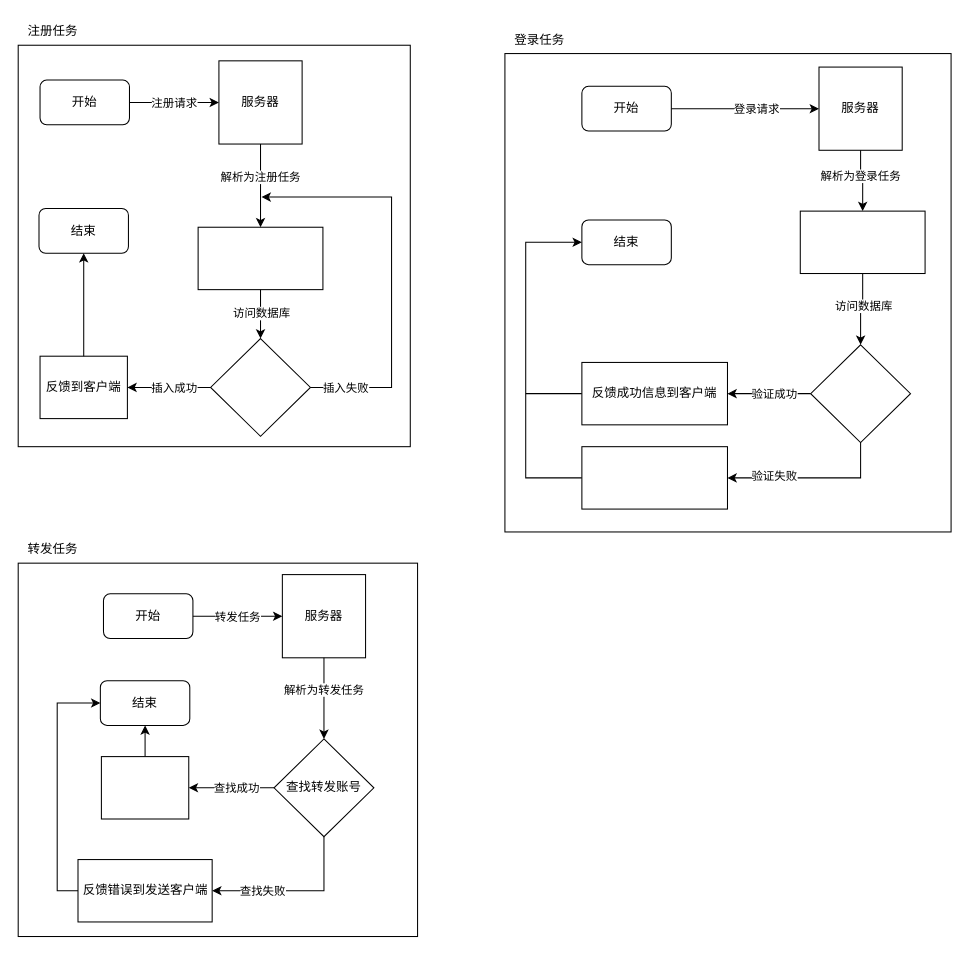
The diagram is 969 pixels wide and 955 high, and some of its shapes have lost their labels. The shapes that lost their labels are listed below. From the top down, each one's box as (x1, y1, x2, y2) in pixels, then its label:
(197, 226, 323, 290): 生成随机账号
(799, 210, 925, 274): 账号验证
(210, 337, 310, 436): 插入到数据库
(810, 344, 911, 443): 验证信息
(581, 446, 727, 509): 反馈失败信息到客户端
(100, 756, 189, 819): 转发数据
